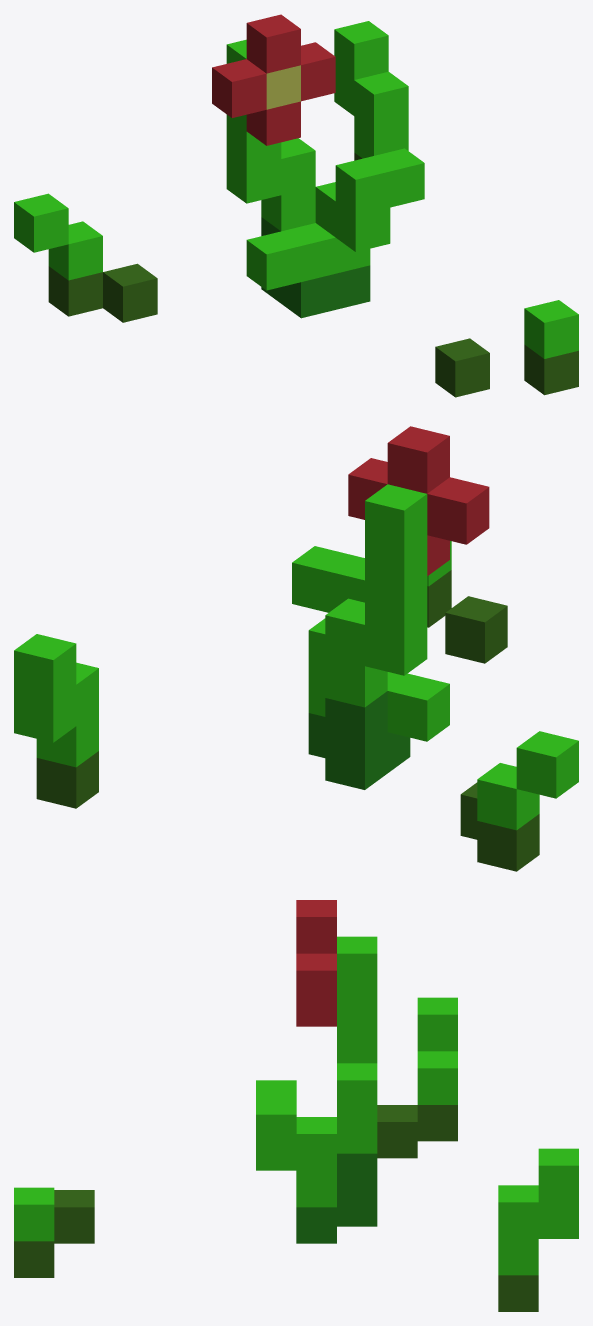
Rendered from Bloem4.fbx.
The picture shows the model from 3 angles, top to bottom: view 1: azimuth 30°, elevation 25°; view 2: azimuth 150°, elevation 25°; view 3: azimuth 270°, elevation 25°; orthographic projection. The views are drawn at different scales.
Visible parts, largest first — view 1: Bloem4:Bloem4; view 2: Bloem4:Bloem4; view 3: Bloem4:Bloem4.
Part boxes in pixels (x1=…): Bloem4:Bloem4: x1=14, y1=14, x2=578, y2=397; Bloem4:Bloem4: x1=14, y1=426, x2=578, y2=871; Bloem4:Bloem4: x1=14, y1=900, x2=578, y2=1311.
Bounding box in the file's own units: 12 × 8 × 14.
1 material, 1 textured.
